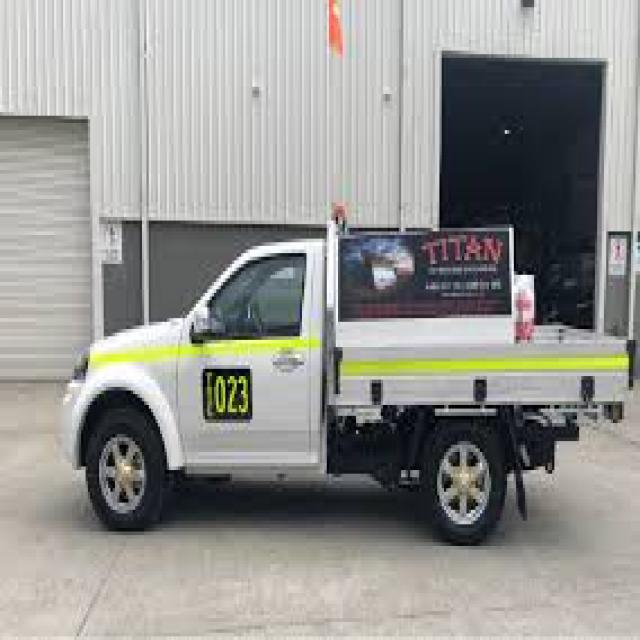light_vehicle: (52, 192, 633, 568)
